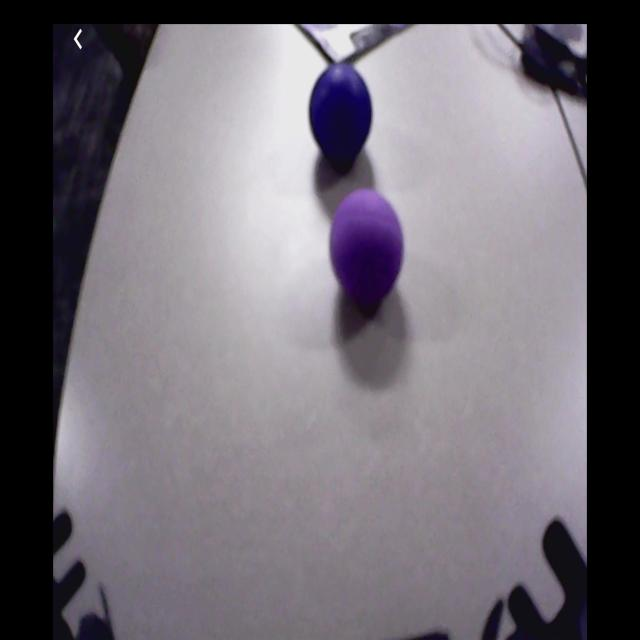ball: (331, 189, 405, 305), (309, 64, 374, 164)
